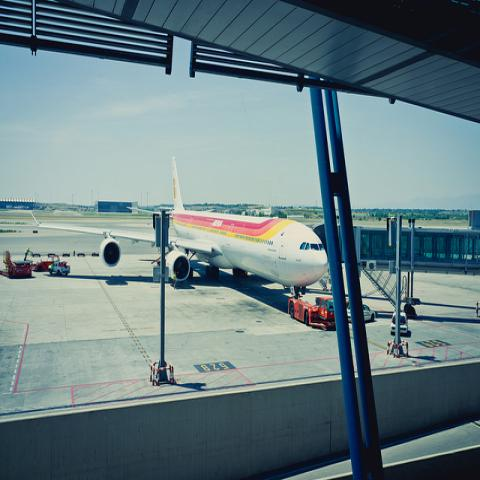car: (347, 304, 376, 322), (391, 310, 408, 336)
truck: (287, 296, 336, 329), (2, 250, 32, 278), (48, 260, 70, 276)
